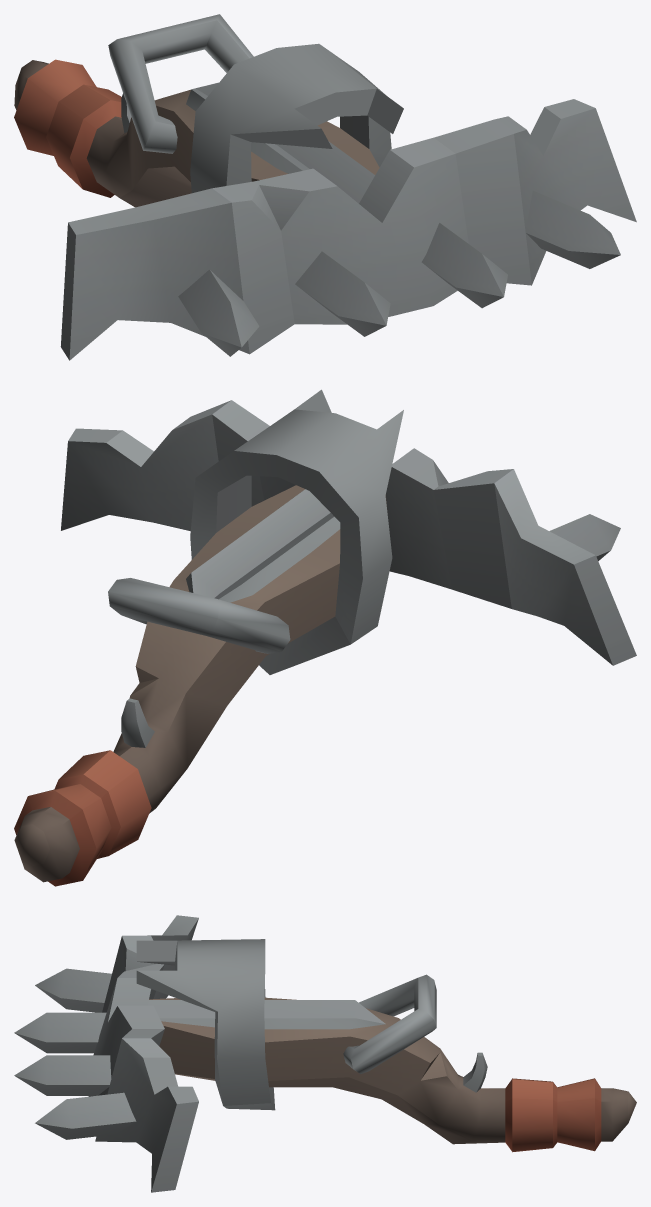
File: kaykit-skeleton-crossbow.glb
3 renders of one model, top to bottom at view 1: azimuth 30°, elevation 25°; view 2: azimuth 150°, elevation 25°; view 3: azimuth 270°, elevation 25°, orthographic. The views are drawn at different scales.
Parts seen in each view (by area): view 1: kaykit-skeleton-crossbow; view 2: kaykit-skeleton-crossbow; view 3: kaykit-skeleton-crossbow.
Boxes of the visible parts, bbox=[...] form: kaykit-skeleton-crossbow: bbox=[14, 14, 636, 360]; kaykit-skeleton-crossbow: bbox=[14, 389, 636, 886]; kaykit-skeleton-crossbow: bbox=[14, 915, 636, 1192].
Size of the model in its own units: 0.8334 by 0.3812 by 1.06.
1 material, 1 textured.
